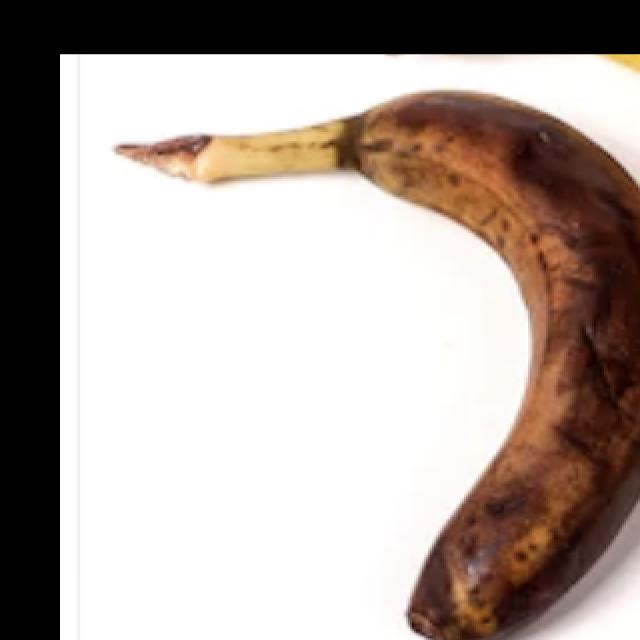Rotten: (113, 79, 640, 640)
